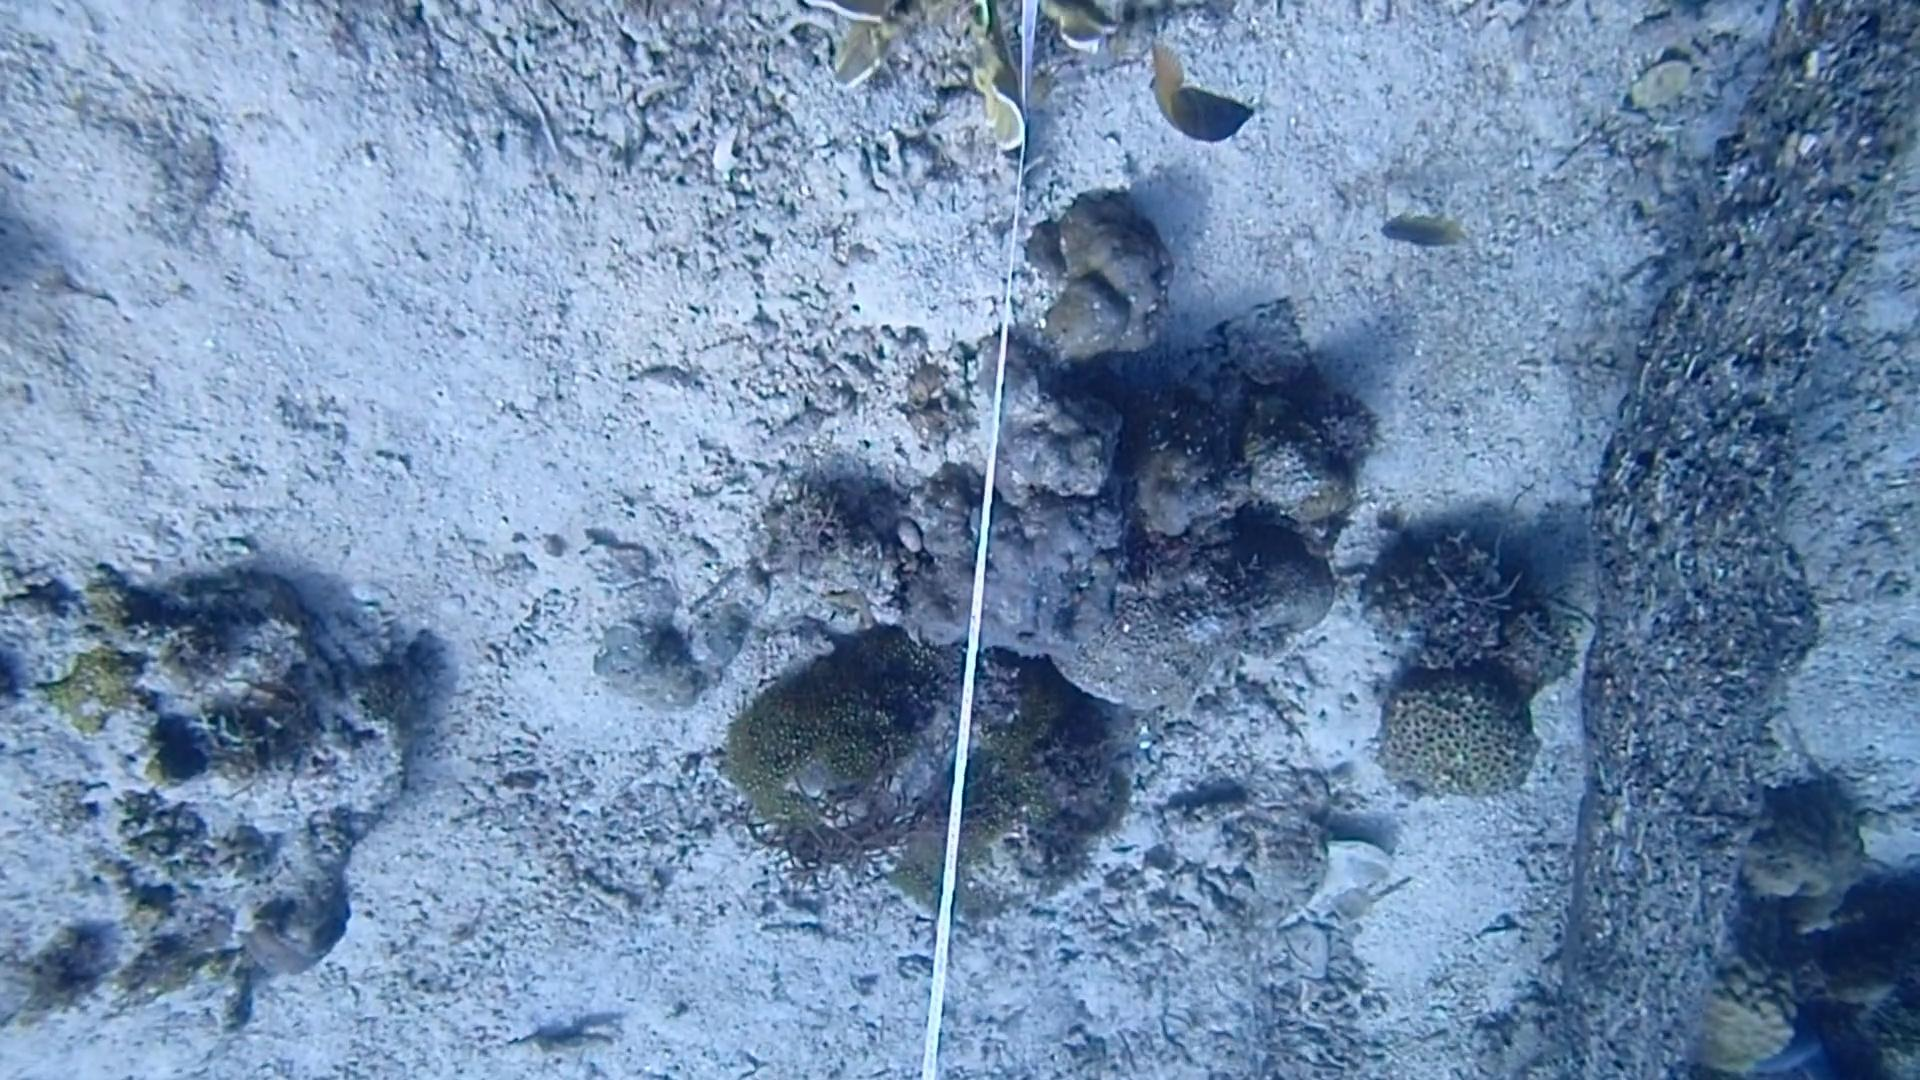Light Fish: (1360, 203, 1489, 270)
Yellow-Blue Fish: (1138, 34, 1265, 154)
